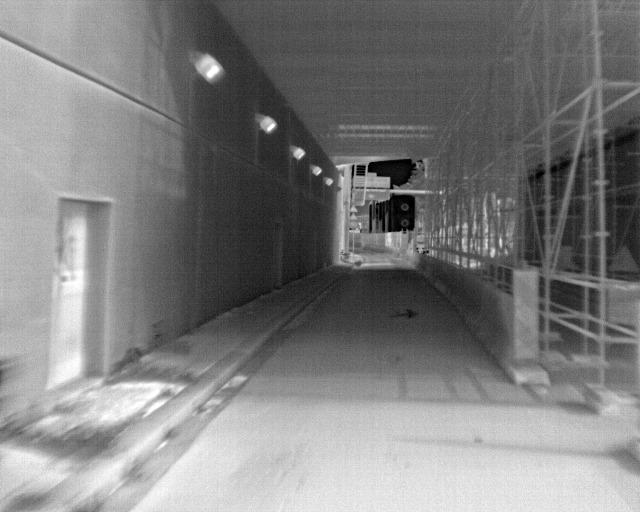light: (394, 194, 415, 231)
sign: (610, 244, 639, 271), (557, 244, 575, 270), (350, 213, 358, 220), (350, 205, 358, 212), (350, 221, 357, 228), (349, 230, 359, 233)
